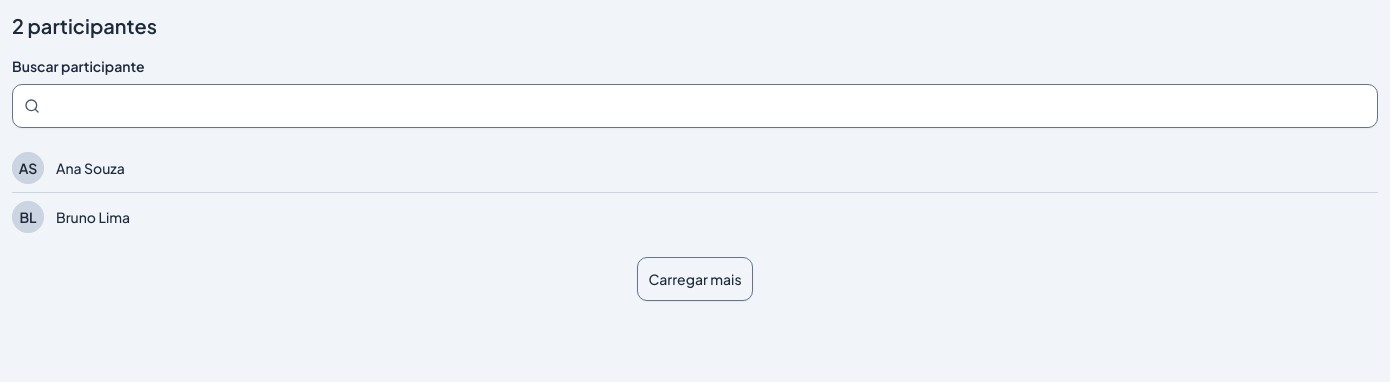
ParticipantsList › Carregar mais acrescenta a página seguinte ao fim e some sem cursor
Later steps or results of the test are not shown.
Click the button "Carregar mais" at [695, 279], box [637,257,752,301]
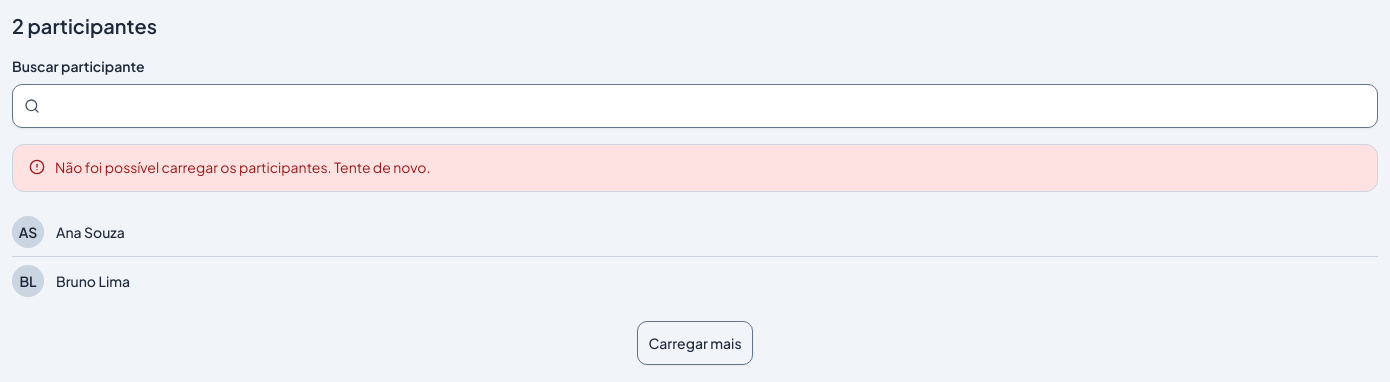
Check: the message reads "Não foi possível carregar os participantes. Tente de novo.", box [55,158,430,176]
Click the button "Carregar mais" at [695, 343], box [637,321,752,365]
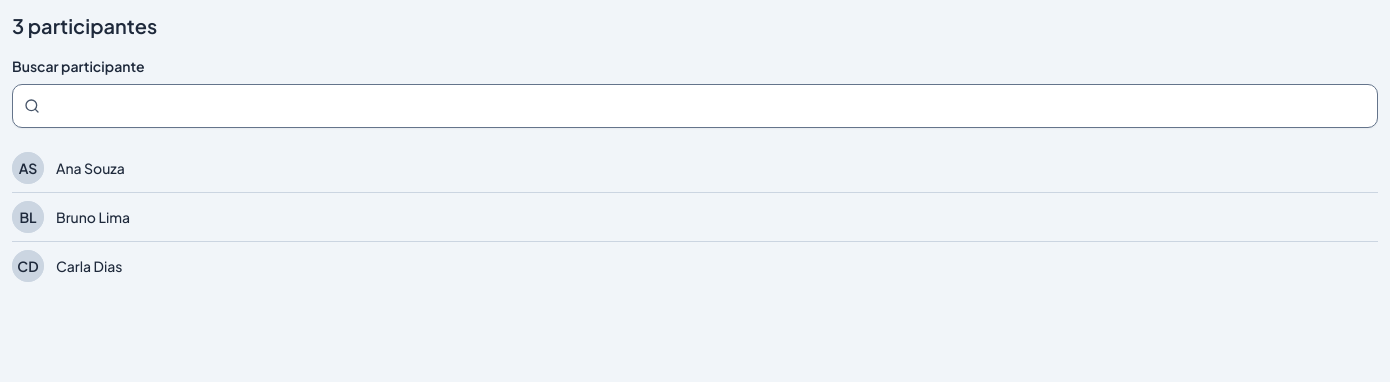
Check: the message "Não foi possível carregar os participantes. Tente de novo." is gone
Check: the button "Carregar mais" is gone
